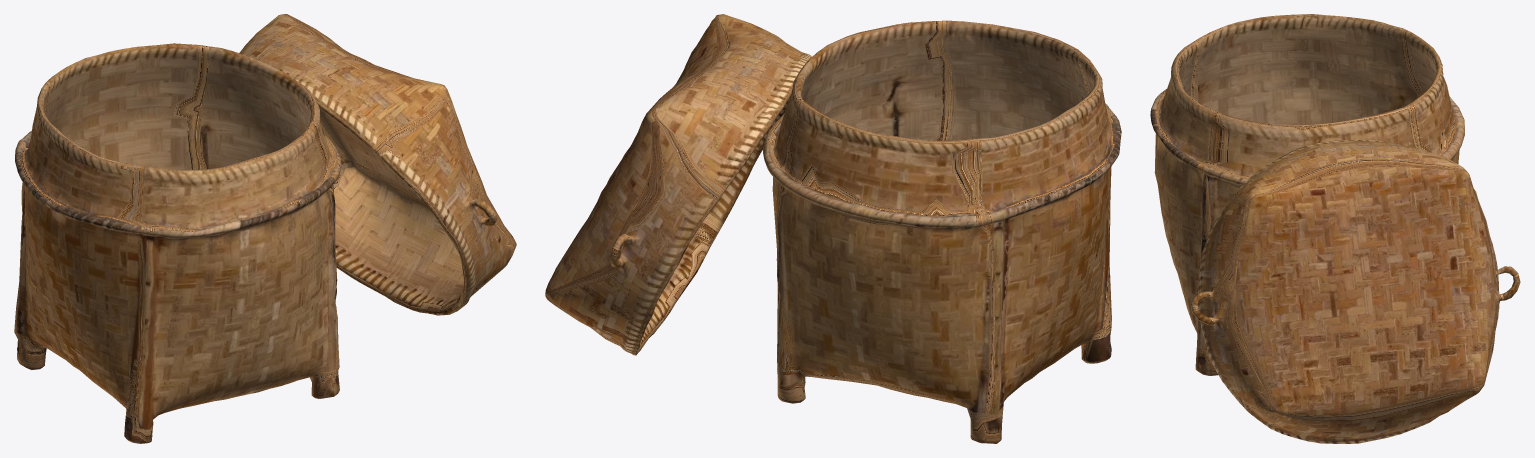
The model's file is wicker_basket_02.glb.
3 renders of one model, left to right at view 1: azimuth 30°, elevation 25°; view 2: azimuth 150°, elevation 25°; view 3: azimuth 270°, elevation 25°, orthographic. The views are drawn at different scales.
Visible parts, largest first — view 1: wicker_basket_02_base, wicker_basket_02_lid; view 2: wicker_basket_02_base, wicker_basket_02_lid; view 3: wicker_basket_02_lid, wicker_basket_02_base.
Part boxes in pixels (<box>): wicker_basket_02_base: <box>14,43,341,443</box>; wicker_basket_02_lid: <box>239,14,516,315</box>; wicker_basket_02_base: <box>763,20,1121,443</box>; wicker_basket_02_lid: <box>545,14,812,355</box>; wicker_basket_02_lid: <box>1190,140,1520,443</box>; wicker_basket_02_base: <box>1150,14,1464,375</box>.
Bounding box in the file's own units: 0.3469 × 0.2005 × 0.2544.
Materials: 1 (1 with a texture image).
